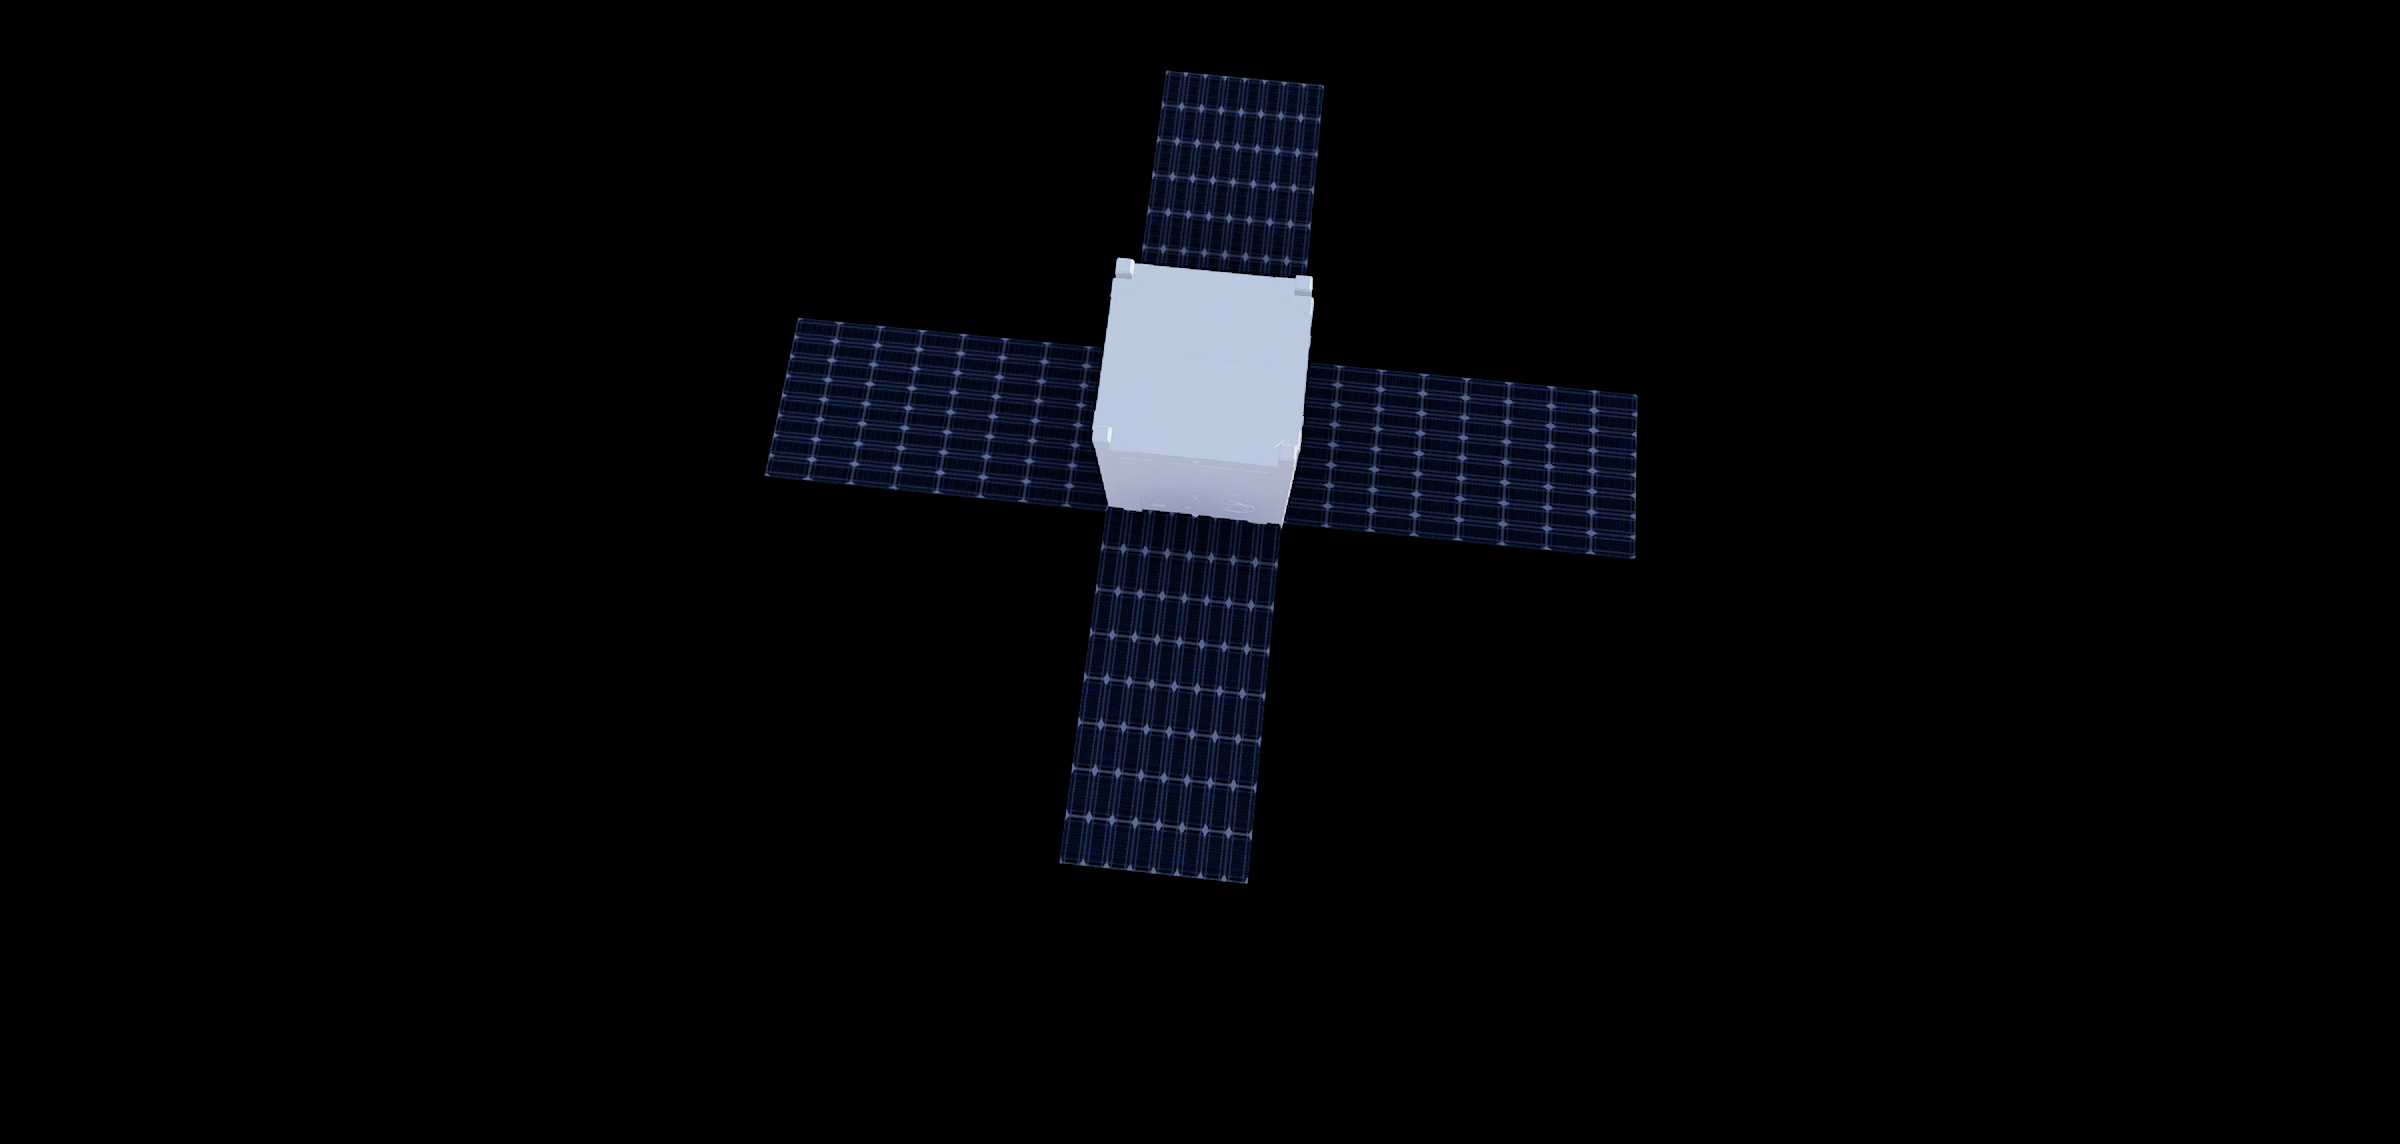satellite: (765, 75, 1714, 890)
